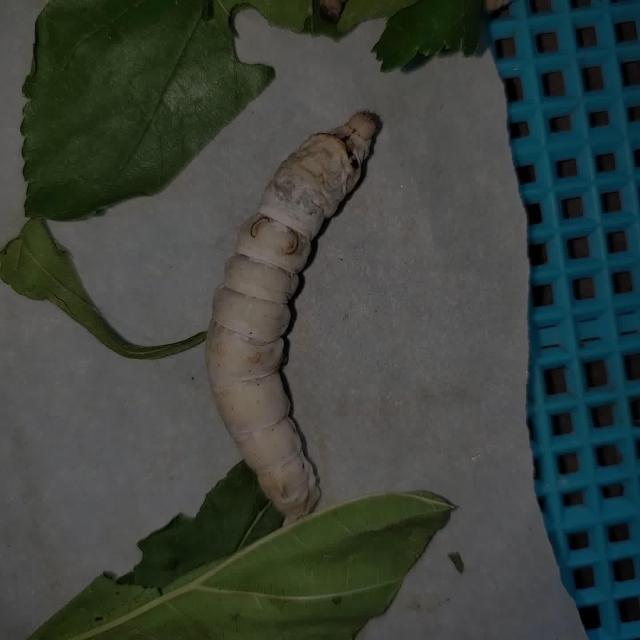Grasserie: (196, 74, 407, 545)
